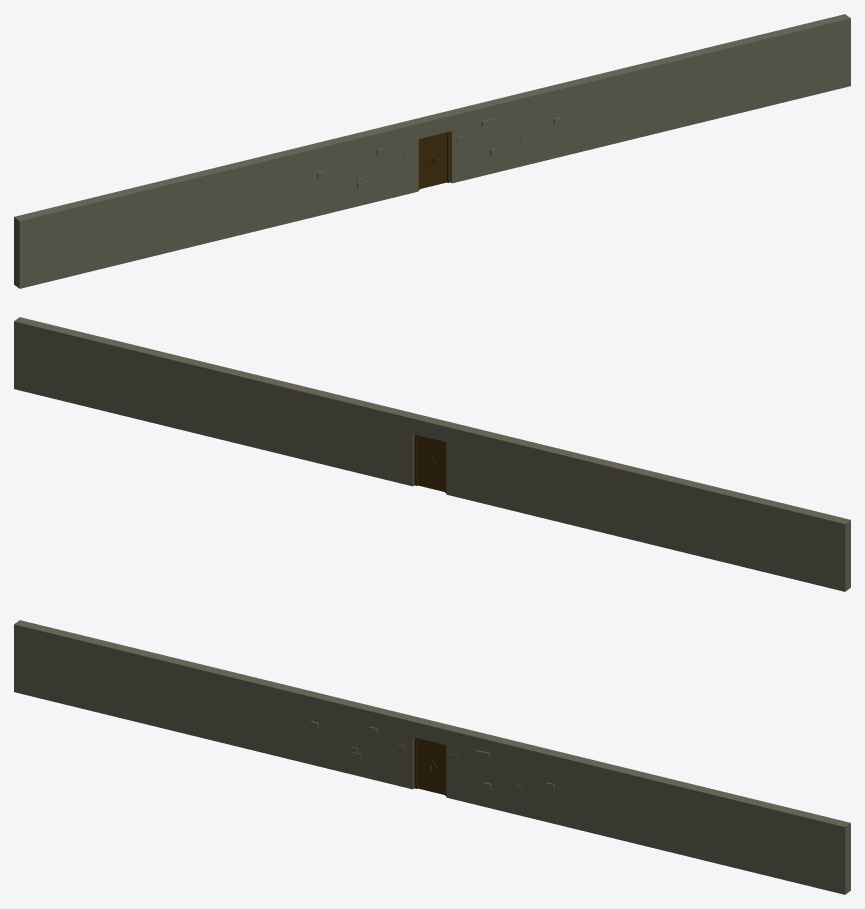
Rendered from wall_with_door.glb.
The picture shows the model from 3 angles, top to bottom: view 1: azimuth 30°, elevation 25°; view 2: azimuth 150°, elevation 25°; view 3: azimuth 330°, elevation 25°; orthographic projection.
Visible parts, largest first — view 1: Wall, Door.Right, Door.Left; view 2: Wall, Door.Left, Door.Right; view 3: Wall, Door.Left, Door.Right.
Boxes of the visible parts, x1,y1,x2,y2 form: Wall: (14,14,850,288); Door.Right: (432,134,446,185); Door.Left: (420,137,433,188); Wall: (14,317,850,591); Door.Left: (431,440,444,491); Door.Right: (418,437,431,488); Wall: (14,620,850,894); Door.Left: (418,740,432,791); Door.Right: (431,743,444,794).
Size of the model in its own units: 84.8 by 6.61 by 1.2.
